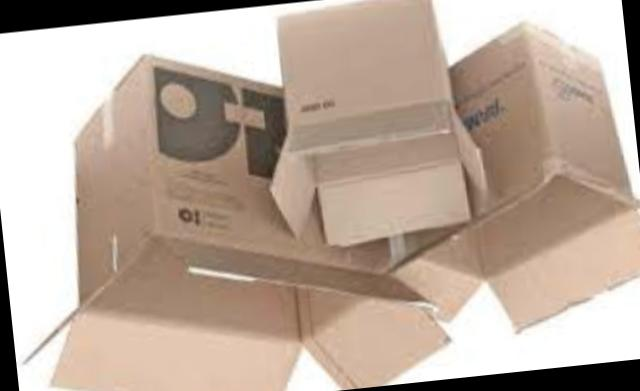cardboard paper: (23, 0, 640, 391), (49, 60, 443, 391), (391, 29, 640, 333)
